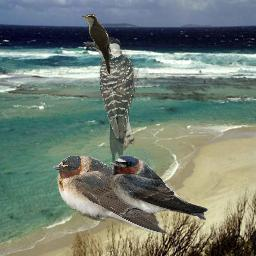Cuckoo: (82, 14, 112, 75)
Swallow: (53, 155, 168, 234), (107, 154, 209, 221)
Woodpecker: (83, 37, 147, 167)
